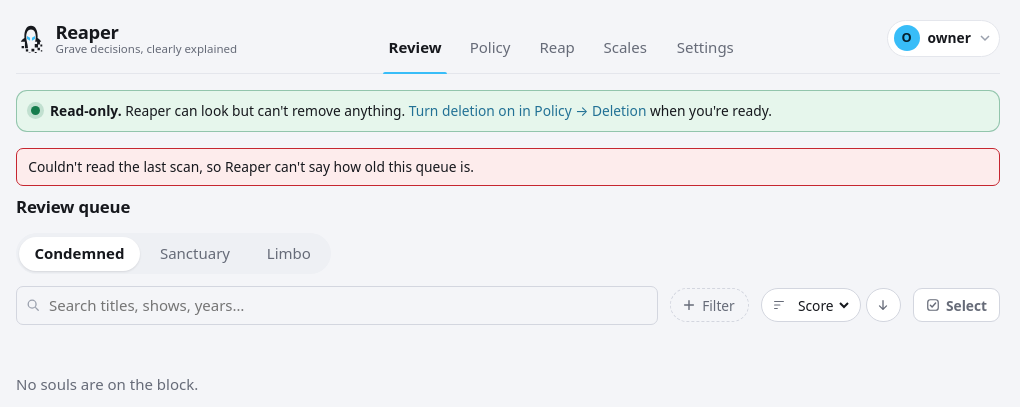
Test: the sign-in gate through a failed refetch › stays signed in and asks again when the sign-out fails
Check: the navigation bar named "Sections" is shown, box x1=377 y1=20 x2=748 y2=72
Click the button "O owner" at (944,38), box x1=888 y1=20 x2=1000 y2=56
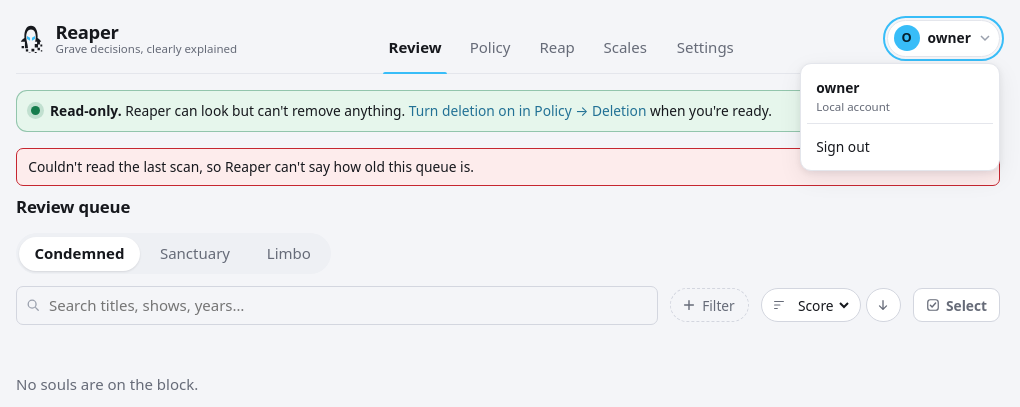
Check: the button "Sign out" is enabled
Click the button "Sign out" at (900,147), box x1=807 y1=129 x2=993 y2=165
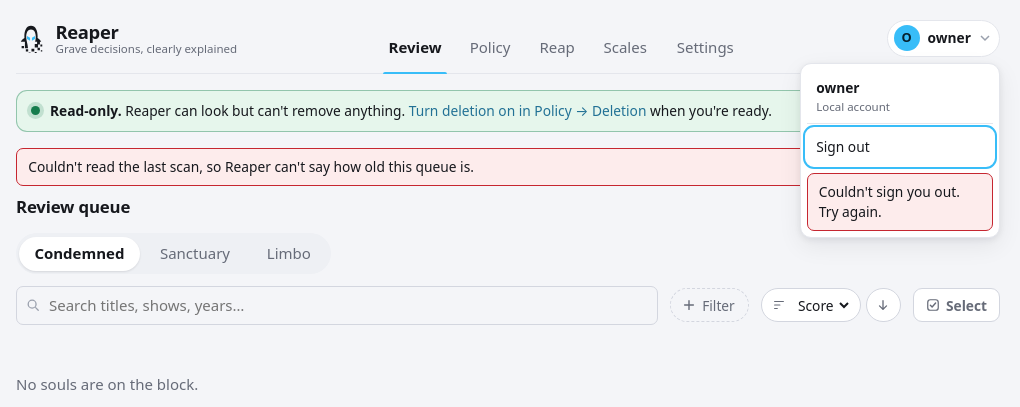
Check: the navigation bar named "Sections" is shown, box x1=377 y1=20 x2=748 y2=72
Check: the text "Couldn't sign you out. Try again." is shown, box x1=807 y1=173 x2=993 y2=231
